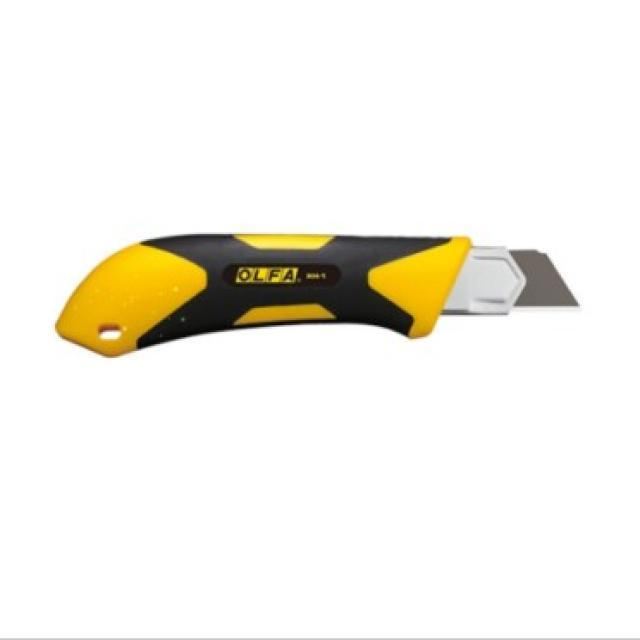cutter: (38, 205, 586, 388)
